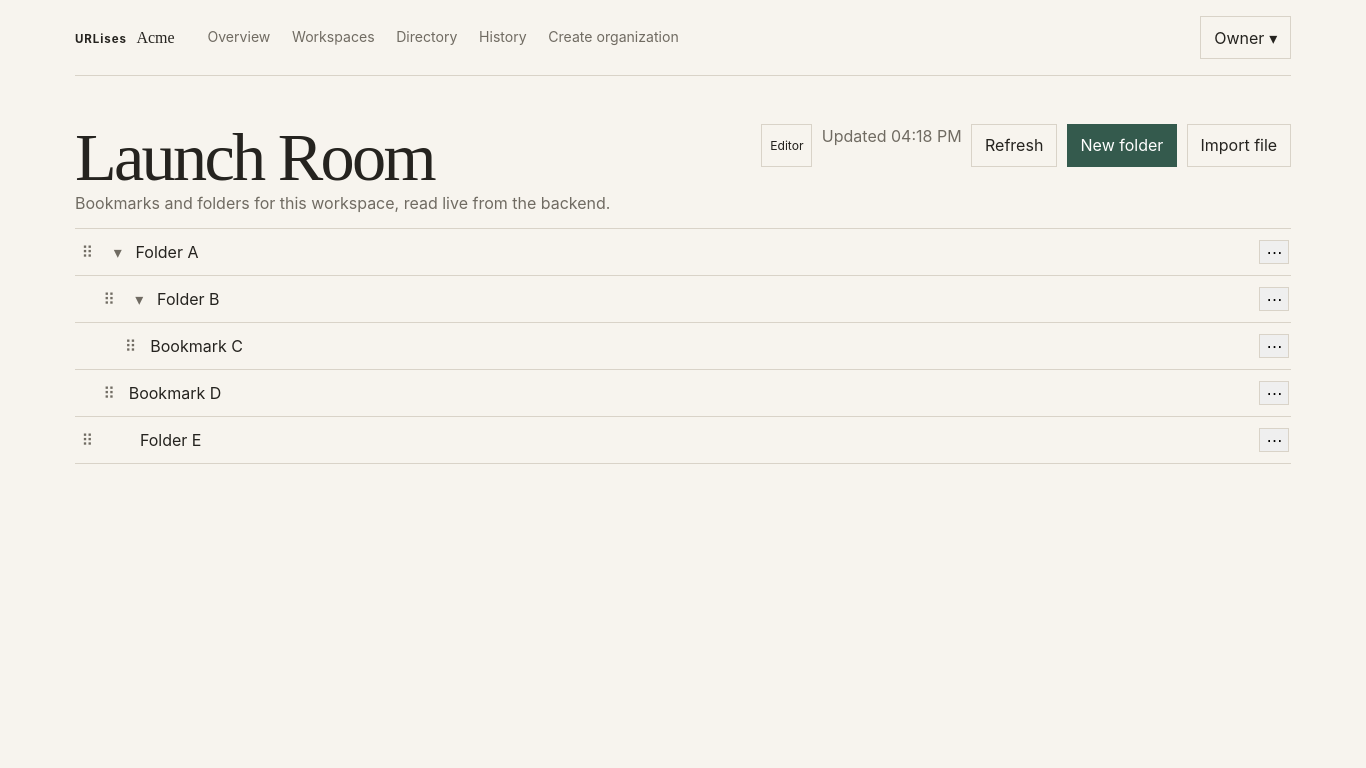
Scenario: bookmarks page — mutations and panels › creates a folder at the workspace root when no parent is selected
Expected: the text "Folder A" is shown, [136, 242, 198, 262]
Click the button "New folder".
click(1122, 145)  # box [1067, 124, 1177, 167]
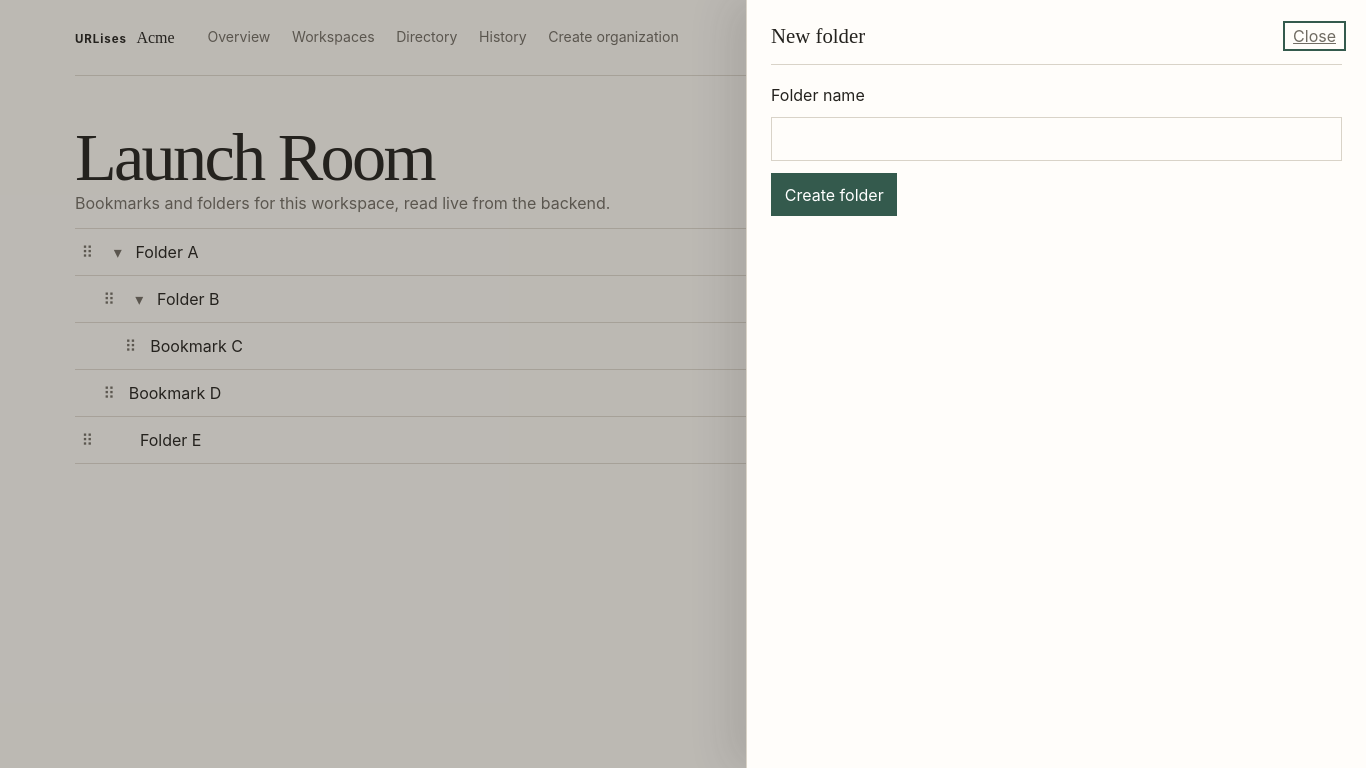
Type "New Root Folder" into the field labelled "Folder name".
click(1056, 139); type("New Root Folder")  # box [771, 117, 1342, 161]
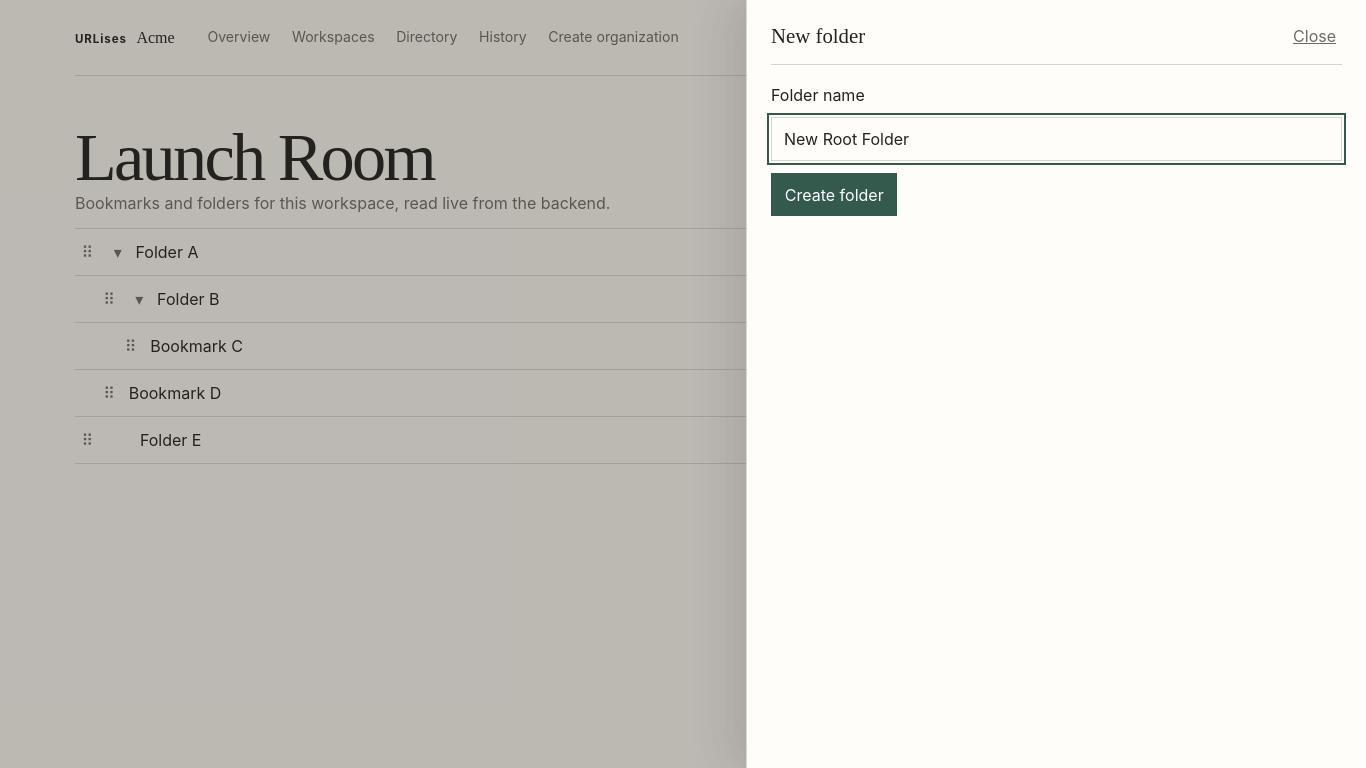
Click the button "Create folder".
click(834, 195)  # box [771, 173, 898, 216]
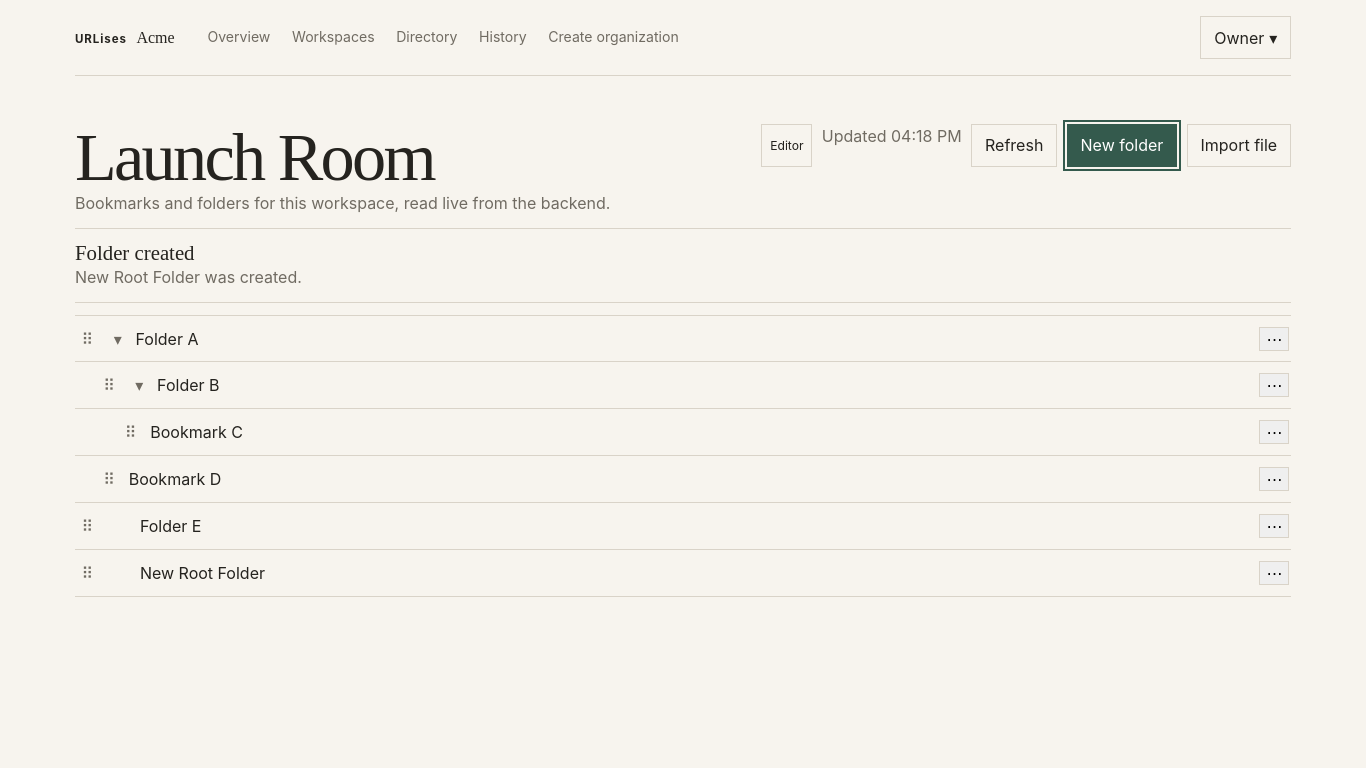
Now the text "New Root Folder" is shown, box [140, 563, 265, 583]
